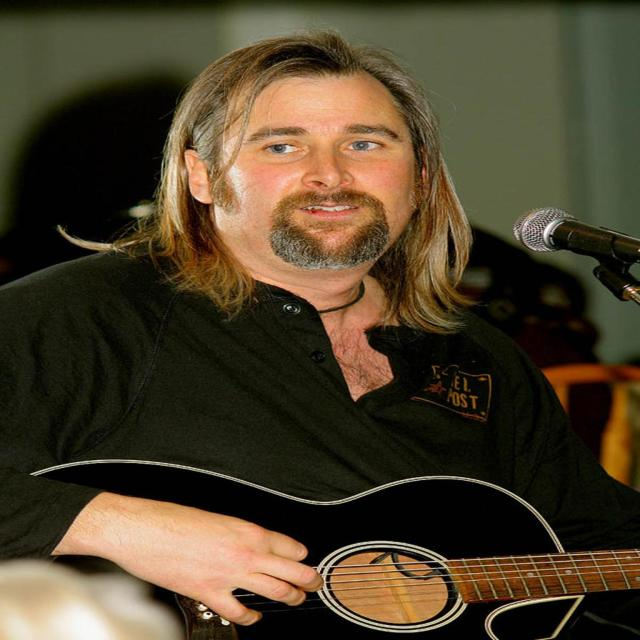Face: (231, 74, 441, 290)
